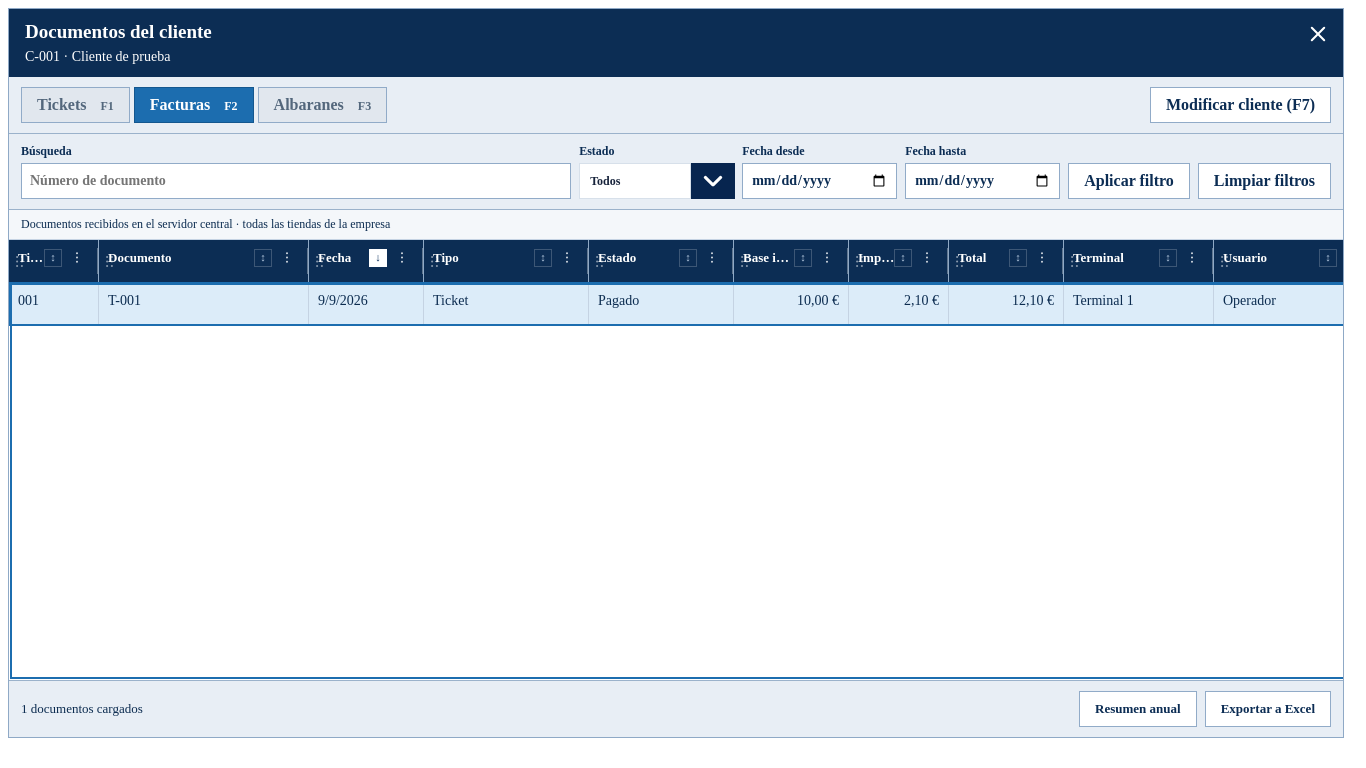
Test: CustomerDocumentsDialog › labels the annual summary button in es without renaming the report
Expected: the text "T-001" is shown, [99,282,309,325]
Expected: the button "Modelo 347" is not shown
Click the button "Resumen anual": (1138, 709) [1079,691,1197,727]
(page scrolled)
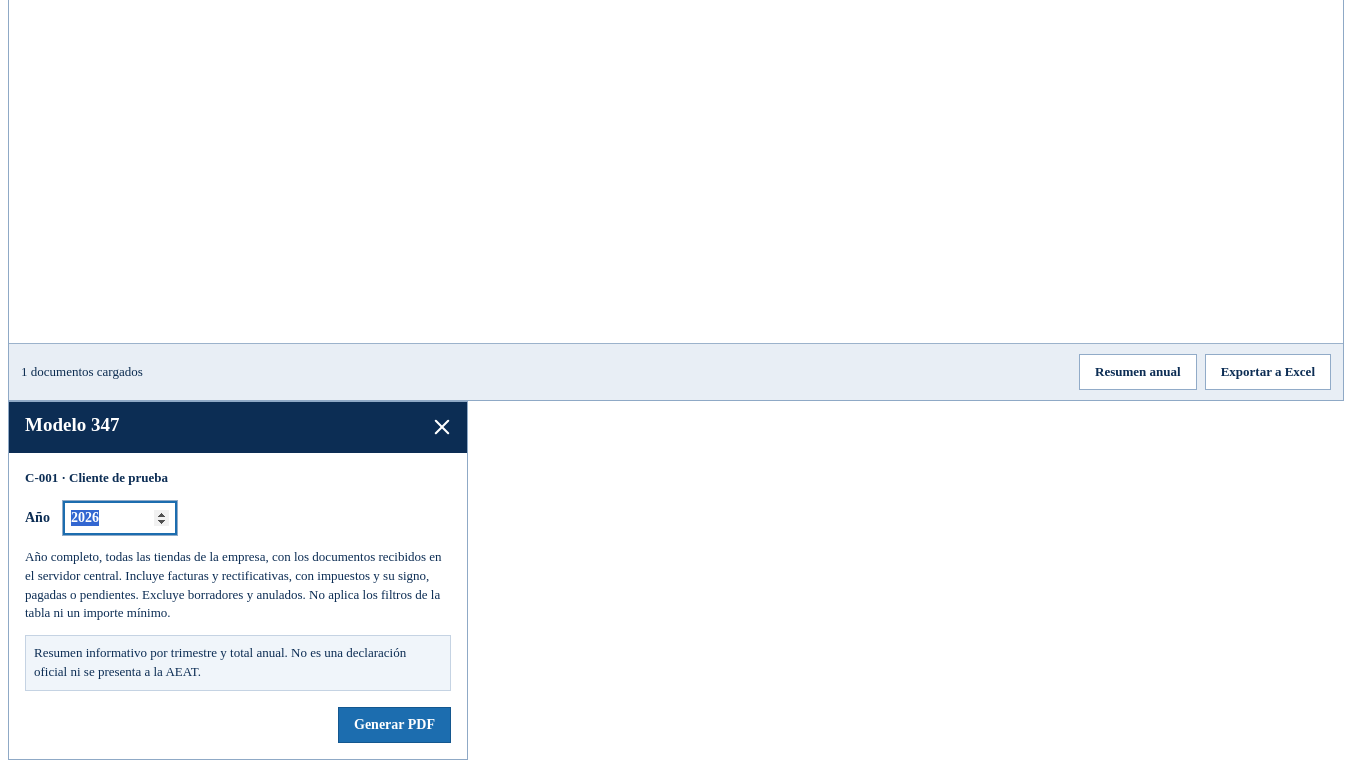
Result: the dialog "Modelo 347" is shown at [8,401,468,760]
